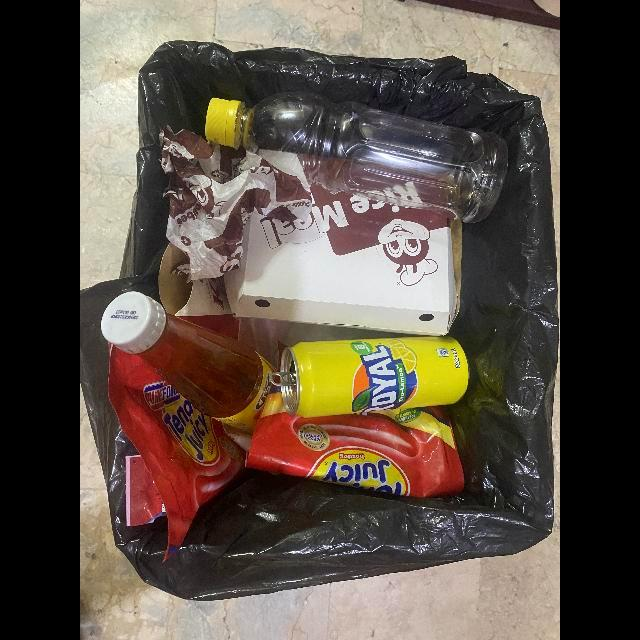aluminum: (270, 337, 469, 417)
cardboard: (158, 244, 235, 317)
food_wrapper: (108, 343, 253, 562), (247, 391, 463, 497)
glass_bottle: (101, 292, 275, 433)
paper: (156, 122, 312, 283)
plastic_bottle: (205, 92, 509, 225)
